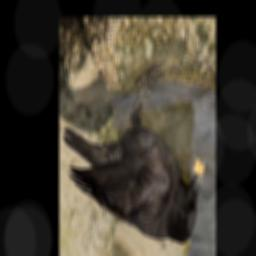Crow: (63, 62, 204, 246)
